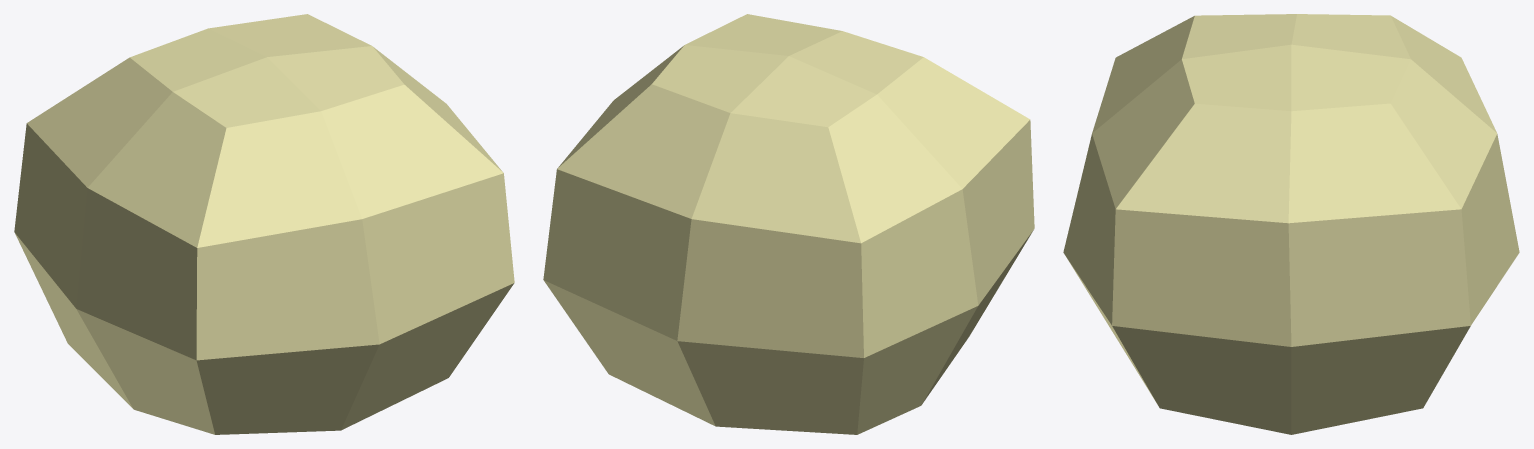
The model's file is cauliflower.fbx.
The picture shows the model from 3 angles, left to right: view 1: azimuth 30°, elevation 25°; view 2: azimuth 150°, elevation 25°; view 3: azimuth 270°, elevation 25°; orthographic projection. The views are drawn at different scales.
Visible parts, largest first — view 1: cauliflower; view 2: cauliflower; view 3: cauliflower.
Part boxes in pixels (bbox=[...]): cauliflower: bbox=[14, 14, 514, 434]; cauliflower: bbox=[543, 14, 1034, 434]; cauliflower: bbox=[1063, 14, 1519, 434].
Size of the model in its own units: 14.67 by 12.32 by 14.98.
1 material, 1 textured.
